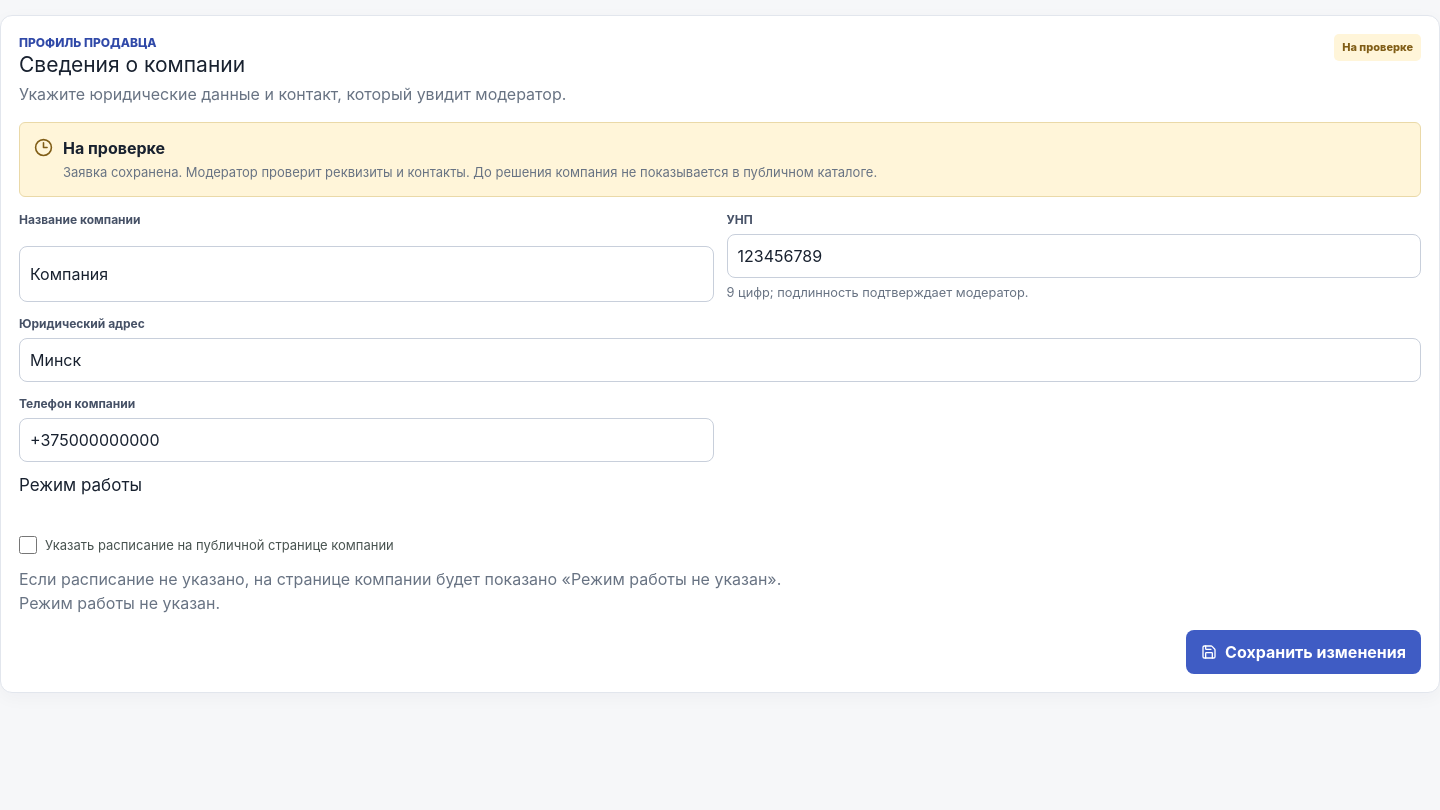
company pilot status › offers a real reload after a revision conflict
The width and height of the screenshot is (1440, 810).
Submit the form, box [19,211,1421,674]
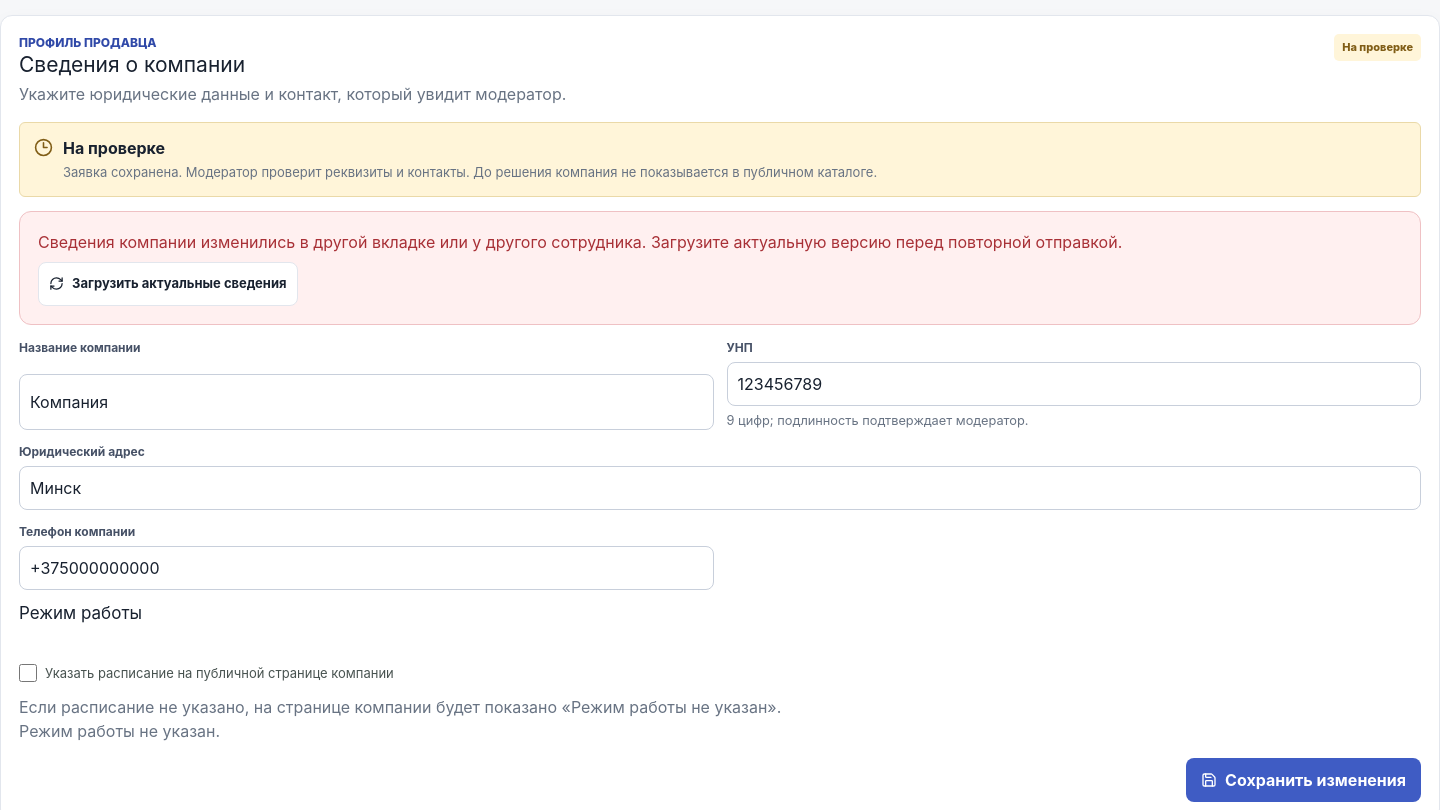
Expected: the 2nd message shows "изменились", [38,232,1122,252]
Expected: the button "Загрузить актуальные сведения" is shown
Click the button "Загрузить актуальные сведения" at coordinates (168, 284), box [38,262,298,306]
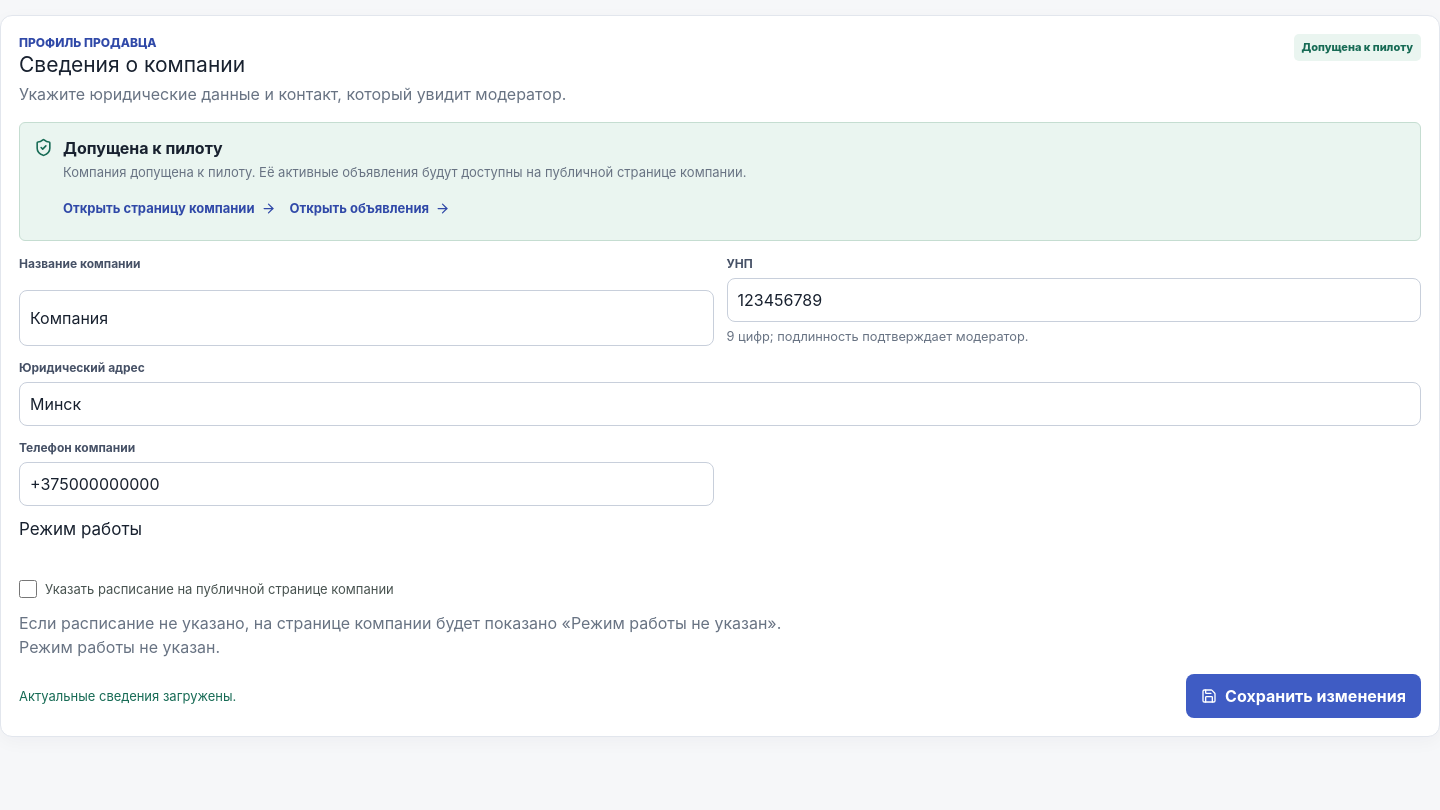
Expected: the text with class "status-pill" reads "Допущена к пилоту", [1302,40,1413,54]
Expected: the link to "/dealers/company-one" is shown, [63,200,276,216]
